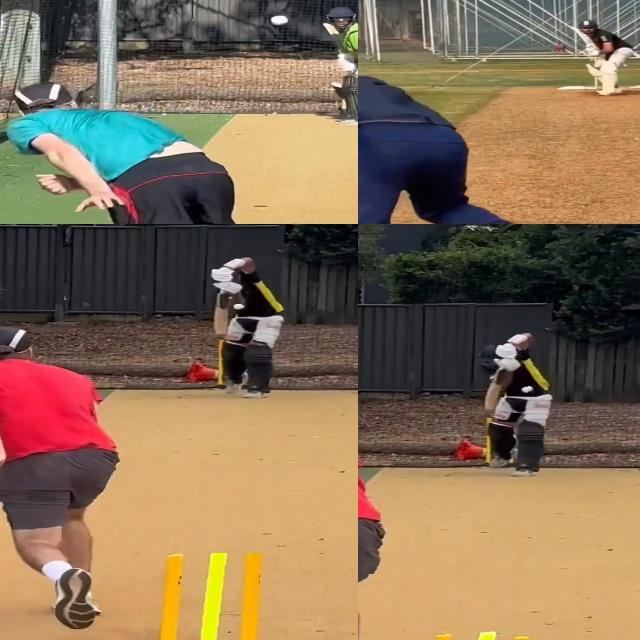Cricket ball: (269, 14, 290, 27), (232, 303, 246, 312), (522, 386, 533, 394), (554, 45, 566, 51)
Stumps: (144, 553, 281, 640)
